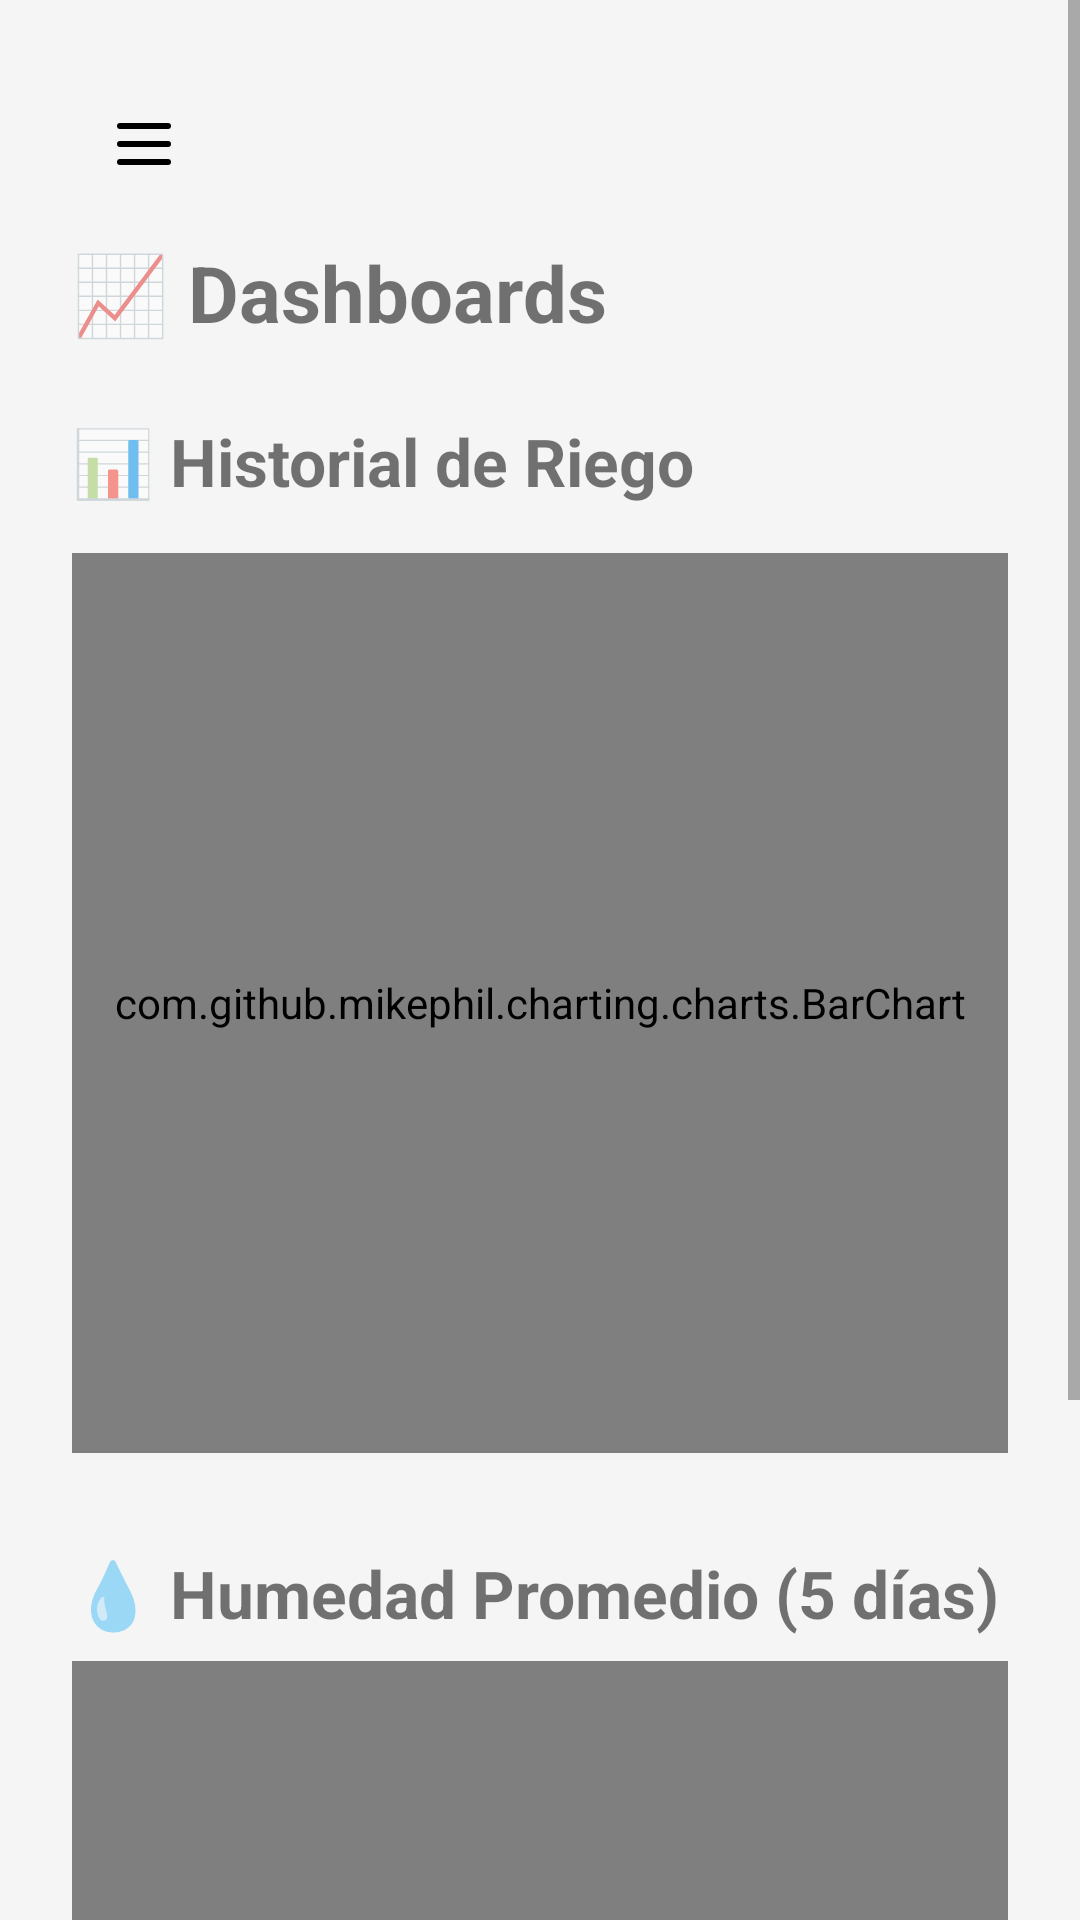

Named icons in this screenshot (1080×1920) and their centers, (x=x, y=y):
Abrir menú: (x=144, y=144)
